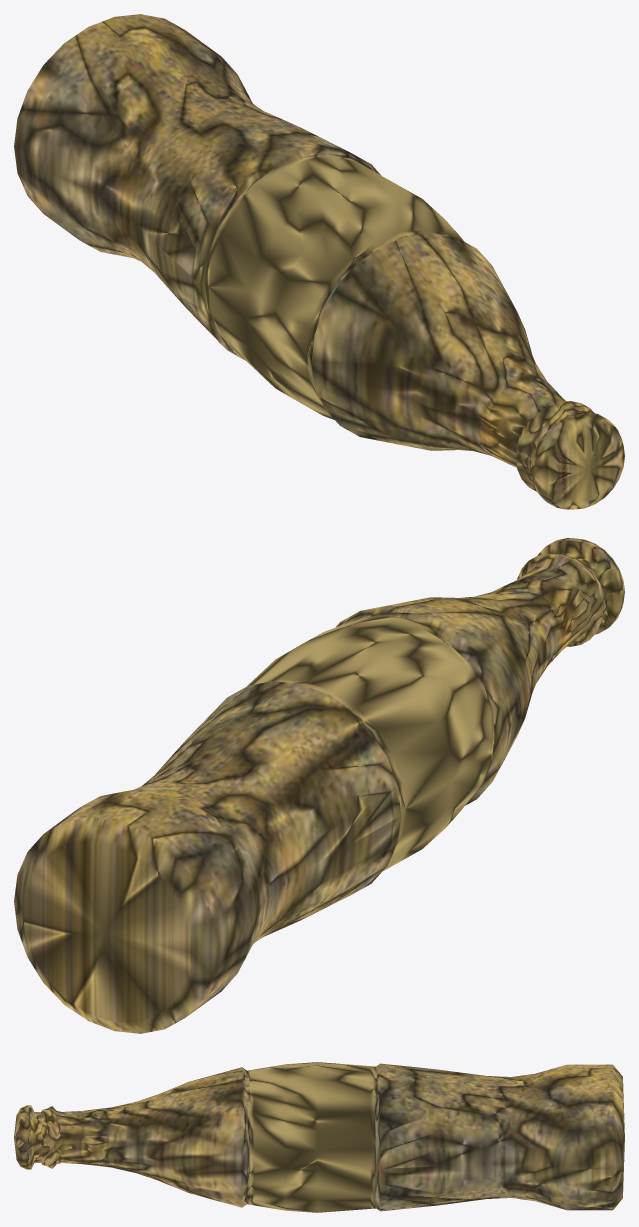
Rendered from model_align.obj.
3 renders of one model, top to bottom at view 1: azimuth 30°, elevation 25°; view 2: azimuth 150°, elevation 25°; view 3: azimuth 270°, elevation 25°, orthographic. The views are drawn at different scales.
Size of the model in its own units: 0.0622 by 0.0622 by 0.2513.
